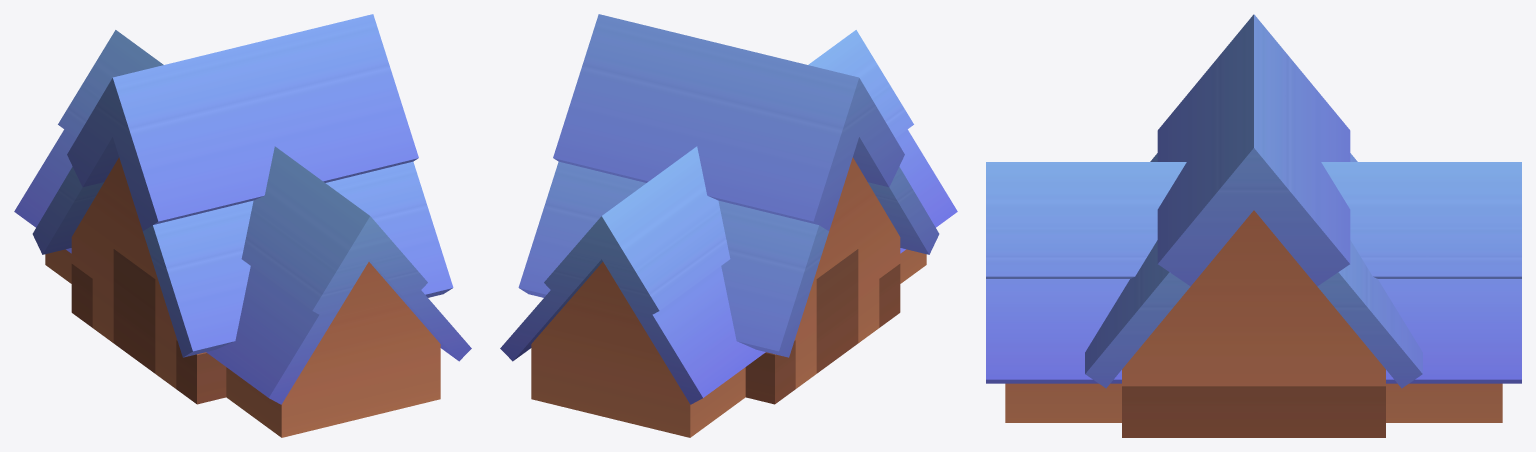
File: kenney-hexagon-unit-mansion.glb
3 views of the same model, side by side, from view 1: azimuth 30°, elevation 25°; view 2: azimuth 150°, elevation 25°; view 3: azimuth 270°, elevation 25° (orthographic). The views are drawn at different scales.
Parts seen in each view (by area): view 1: unit_mansion; view 2: unit_mansion; view 3: unit_mansion.
Boxes of the visible parts, bbox=[...] form: unit_mansion: bbox=[14, 14, 471, 437]; unit_mansion: bbox=[500, 14, 957, 437]; unit_mansion: bbox=[986, 14, 1521, 437].
Size of the model in its own units: 0.36 by 0.3781 by 0.6094.
1 material, 1 textured.
